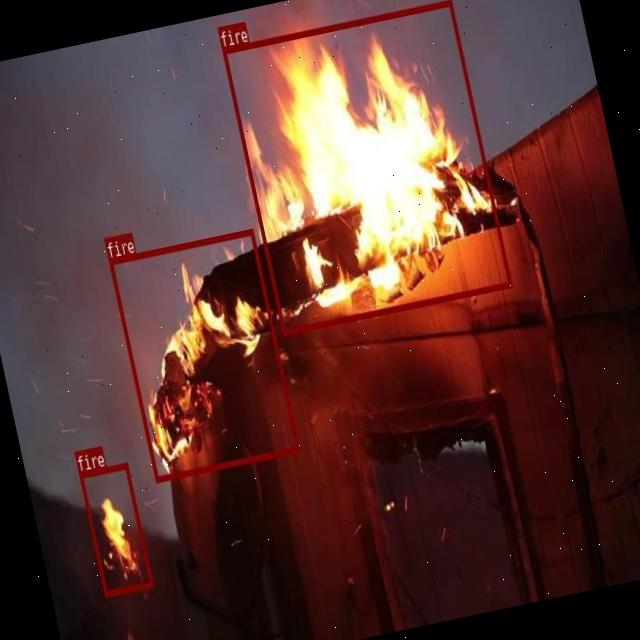fire: (221, 0, 511, 334), (108, 227, 298, 481), (78, 461, 154, 595)
